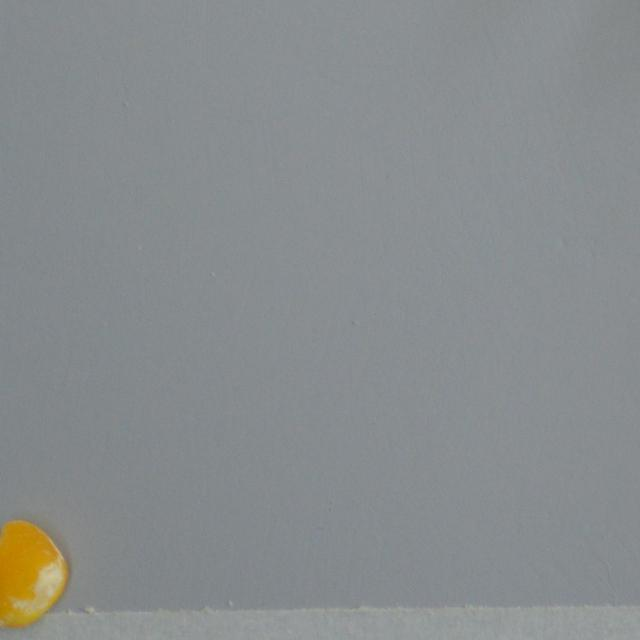pelicula: (0, 518, 68, 626)
